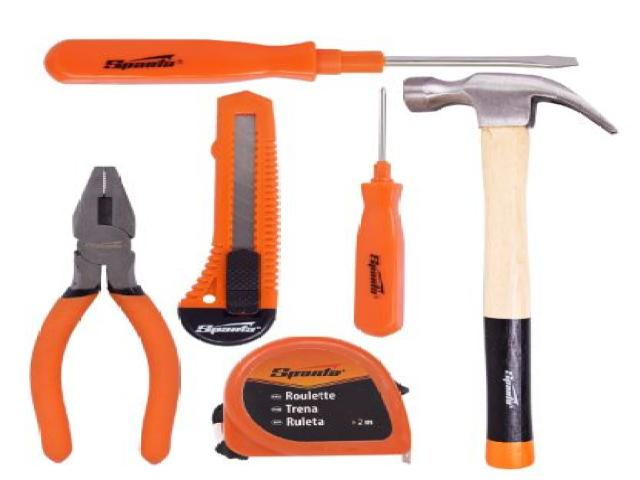Hammer: (403, 73, 616, 468)
Pliers: (32, 167, 179, 464)
Screwdriver: (45, 39, 578, 83), (354, 87, 405, 336)
Tape measure: (213, 337, 411, 459)
Utility knife: (178, 91, 277, 345)
